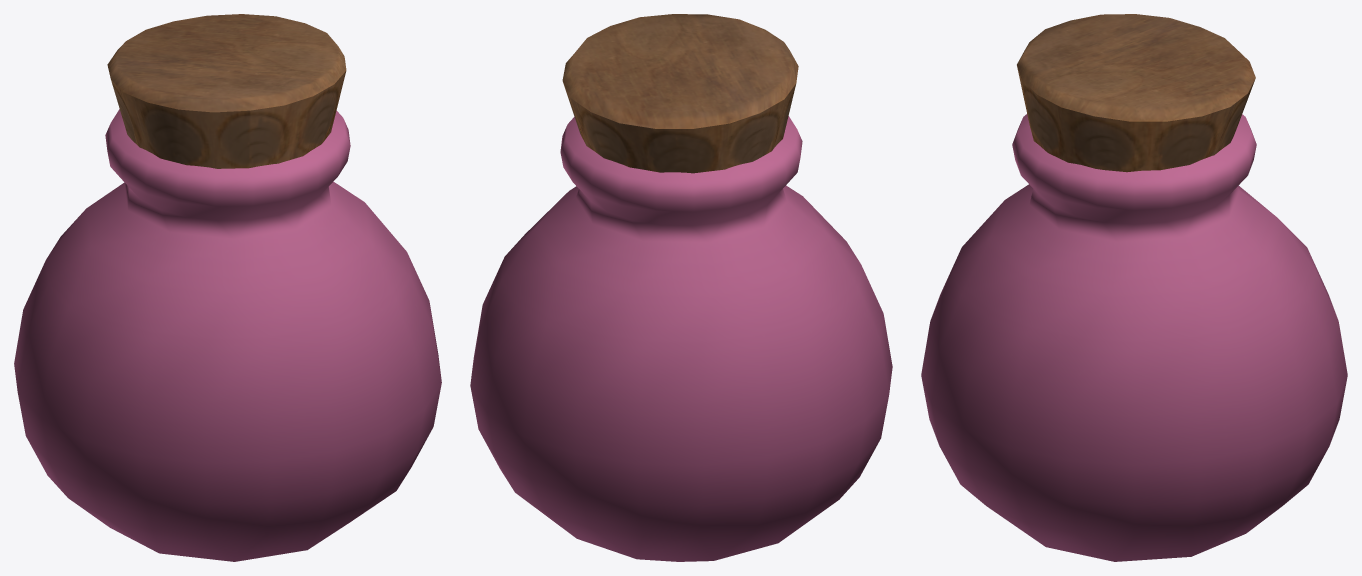
The model's file is SM_Potion_Props_Bottle_Tiny_01_D.fbx.
3 views of the same model, side by side, from view 1: azimuth 30°, elevation 25°; view 2: azimuth 150°, elevation 25°; view 3: azimuth 270°, elevation 25° (orthographic).
Visible parts, largest first — view 1: SM_Potion_Props_Bottle_Tiny_01_D_LOD0; view 2: SM_Potion_Props_Bottle_Tiny_01_D_LOD0; view 3: SM_Potion_Props_Bottle_Tiny_01_D_LOD0.
Part boxes in pixels (x1=…): SM_Potion_Props_Bottle_Tiny_01_D_LOD0: x1=14, y1=14, x2=441, y2=561; SM_Potion_Props_Bottle_Tiny_01_D_LOD0: x1=470, y1=14, x2=892, y2=561; SM_Potion_Props_Bottle_Tiny_01_D_LOD0: x1=921, y1=14, x2=1347, y2=561.
Size of what is drawn, in the model's own units: 7.1 by 8.99 by 7.1.
